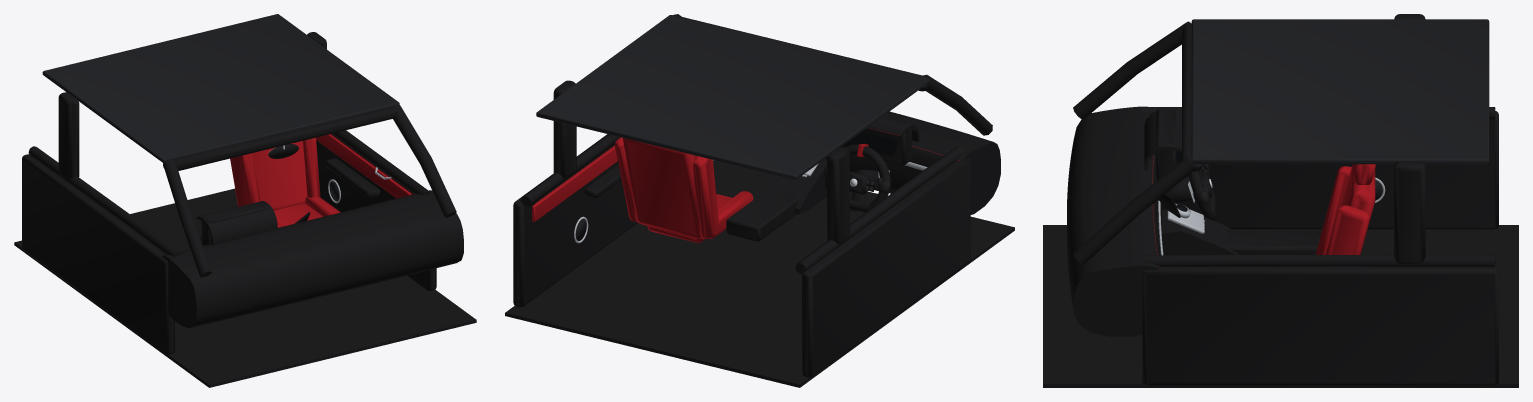
File: int_honda.glb
3 renders of one model, left to right at view 1: azimuth 30°, elevation 25°; view 2: azimuth 150°, elevation 25°; view 3: azimuth 270°, elevation 25°, orthographic. The views are drawn at different scales.
Visible parts, largest first — view 1: box.011, Dash, box.013, box, box.010, box.014, box.003, DoorTop, box.006, Pillar.001, Hood, Pillar (+8 smaller); view 2: box.011, box.013, box, box.003, box.014, Dash, box.023, DoorTop, box.006, box.015, Stack, box.004 (+11 smaller); view 3: box.011, box.003, Dash, box.013, box, DoorTop.001, box.008, Pillar.001, box.023, Pillar, Stack, box.017 (+9 smaller).
Boxes of the visible parts, x1,y1,x2,y2 form: box.011: (42,14,399,163); Dash: (162,190,463,328); box.013: (14,188,476,387); box: (22,154,174,354); box.010: (163,106,395,170); box.014: (252,141,307,210); box.003: (316,130,436,290); DoorTop: (28,146,181,256); box.006: (58,92,79,180); Pillar.001: (392,105,456,217); Hood: (196,201,277,245); Pillar: (163,160,211,277); box.011: (536,15,929,179); box.013: (505,160,1014,387); box: (802,158,970,377); box.003: (513,134,637,307); box.014: (623,138,701,238); Dash: (825,111,1000,214); box.023: (726,188,799,241); DoorTop: (795,146,964,273); box.006: (827,147,849,244); box.015: (693,156,718,238); Stack: (757,159,826,214); box.004: (532,146,617,221); box.011: (1191,19,1489,164); box.003: (1142,266,1498,385); Dash: (1067,106,1161,336); box.013: (1043,225,1518,387); box: (1160,111,1498,229); DoorTop.001: (1142,254,1495,266); box.008: (1394,161,1425,263); Pillar.001: (1073,156,1195,264); box.023: (1226,230,1320,254); Pillar: (1073,21,1191,119); Stack: (1162,209,1238,255); box.017: (1325,205,1369,254).
Bounding box in the file's own units: 1.93 × 1.22 × 2.4.
